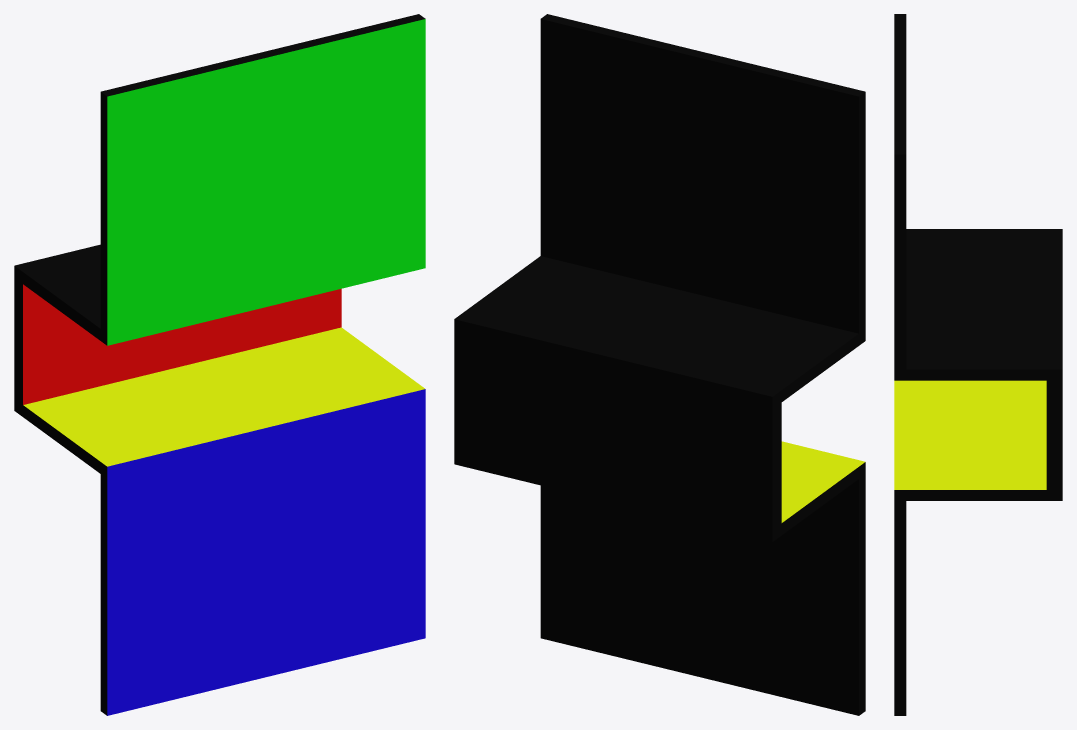
File: esgoto 1.FBX
3 renders of one model, left to right at view 1: azimuth 30°, elevation 25°; view 2: azimuth 150°, elevation 25°; view 3: azimuth 270°, elevation 25°, orthographic. The views are drawn at different scales.
Parts seen in each view (by area): view 1: Box001; view 2: Box001; view 3: Box001.
Boxes of the visible parts, bbox=[...] form: Box001: bbox=[14, 14, 425, 715]; Box001: bbox=[454, 14, 865, 715]; Box001: bbox=[894, 14, 1062, 715].
Bounding box in the file's own units: 348 × 647 × 176.
